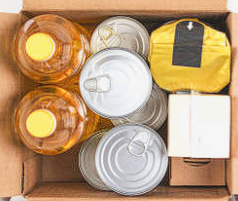Intacto: (98, 124, 178, 198), (79, 50, 149, 119), (90, 15, 150, 62), (78, 135, 116, 190)
